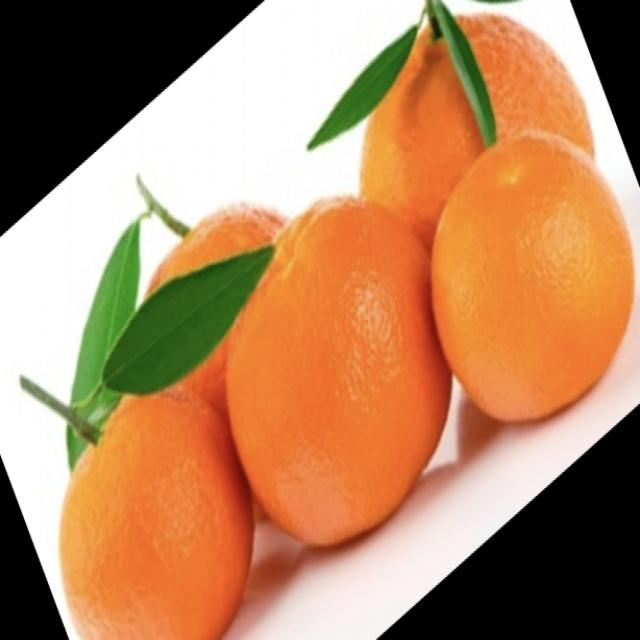fresh: (46, 5, 632, 640)
